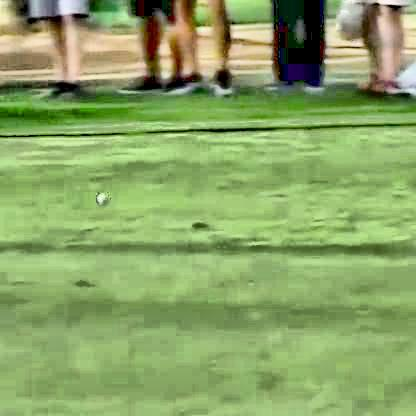golfball: (92, 188, 105, 204)
